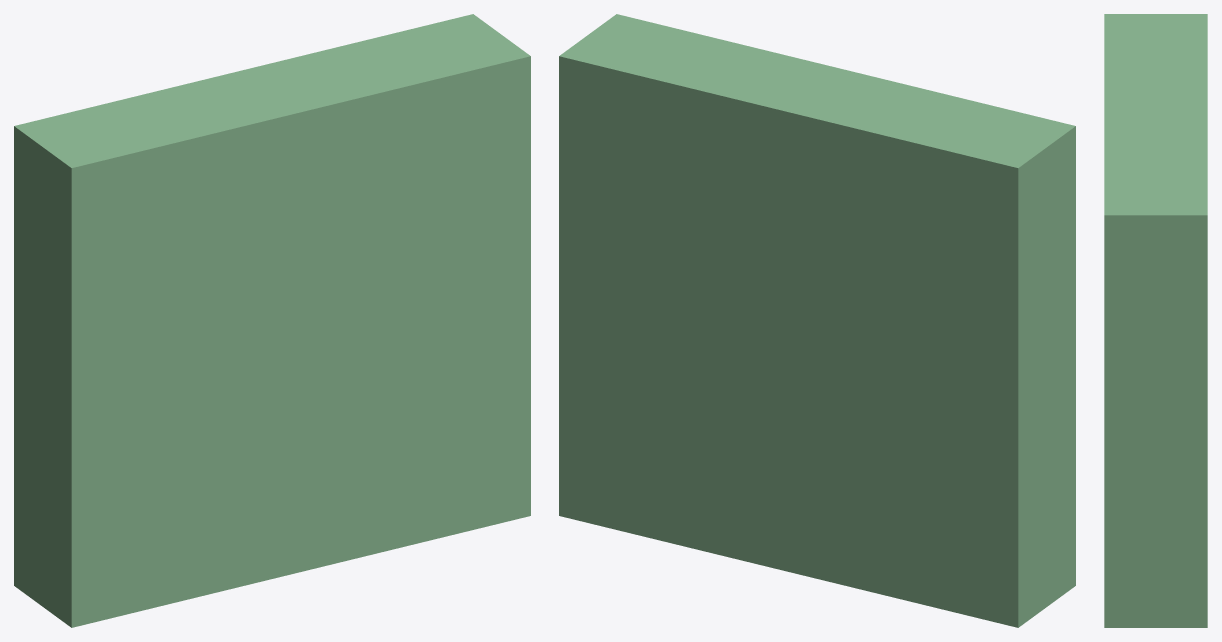
The model's file is sheet1.glb.
The picture shows the model from 3 angles, left to right: view 1: azimuth 30°, elevation 25°; view 2: azimuth 150°, elevation 25°; view 3: azimuth 270°, elevation 25°; orthographic projection. The views are drawn at different scales.
Visible parts, largest first — view 1: world; view 2: world; view 3: world.
Part boxes in pixels (x1,y1,x2,y2): world: (14, 14, 530, 627); world: (559, 14, 1075, 627); world: (1104, 14, 1207, 627).
Bounding box in the file's own units: 0.092 × 0.088 × 0.02.
